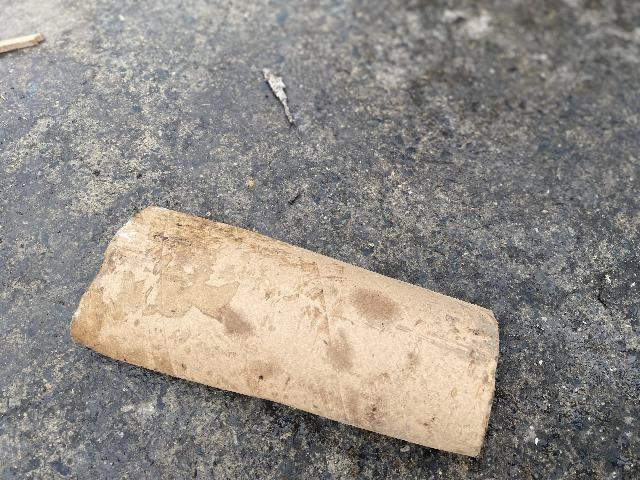Kagit: (57, 183, 524, 480), (244, 63, 314, 133), (0, 25, 40, 68)
